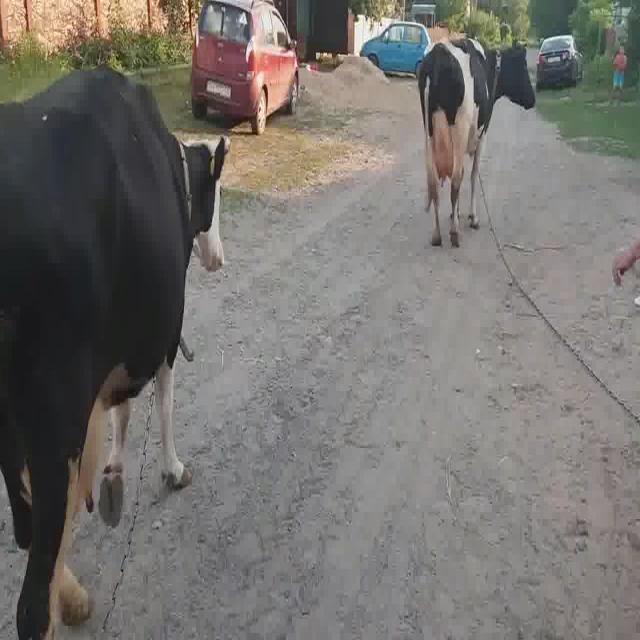cow: (0, 69, 228, 640), (418, 39, 535, 246)
